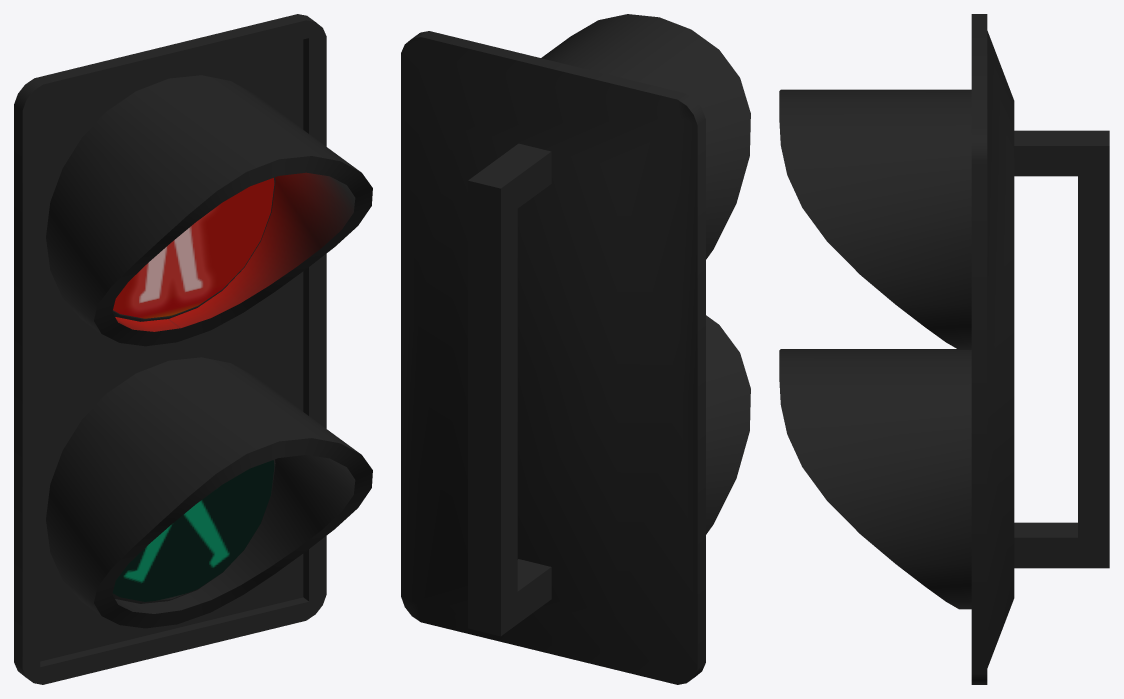
Rendered from sm_trli_001_06.FBX.
3 renders of one model, left to right at view 1: azimuth 30°, elevation 25°; view 2: azimuth 150°, elevation 25°; view 3: azimuth 270°, elevation 25°, orthographic. The views are drawn at different scales.
Parts seen in each view (by area): view 1: sm_trli_001_06; view 2: sm_trli_001_06; view 3: sm_trli_001_06.
Boxes of the visible parts, left/top/right/bottom form: sm_trli_001_06: left=14, top=14, right=372, bottom=684; sm_trli_001_06: left=401, top=14, right=750, bottom=684; sm_trli_001_06: left=779, top=14, right=1109, bottom=684.
Size of the model in its own units: 0.4809 by 0.9071 by 0.4919.
1 material, 1 textured.
